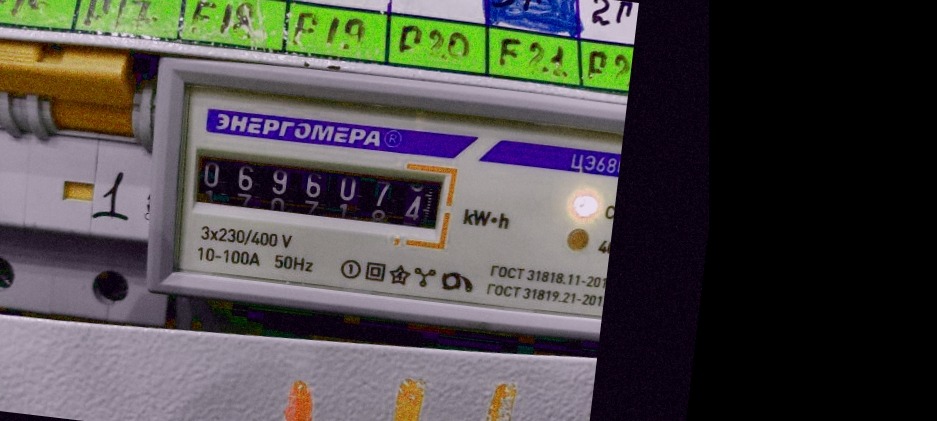0: (200, 158, 222, 189), (335, 173, 358, 202)
4: (402, 192, 423, 222)
6: (303, 169, 324, 199), (234, 163, 255, 192)
7: (370, 177, 392, 209)
9: (268, 167, 289, 197)
screen: (175, 132, 462, 251)
